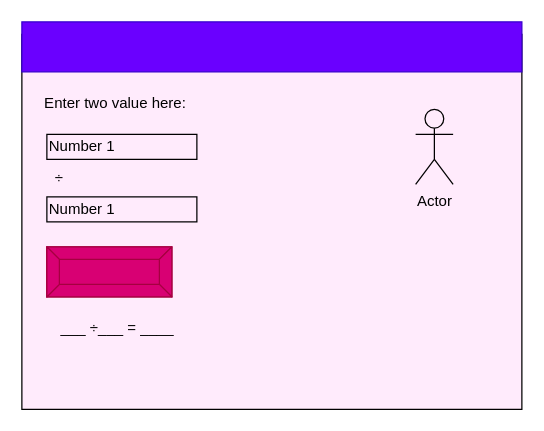
This 544x431 diagram has some shape labels left out. Here are the shapes that lost their labels. From the top down, the centre of each, then its label:
At (271,46): "division with subtraction".
At (109,271): "Calculate".
